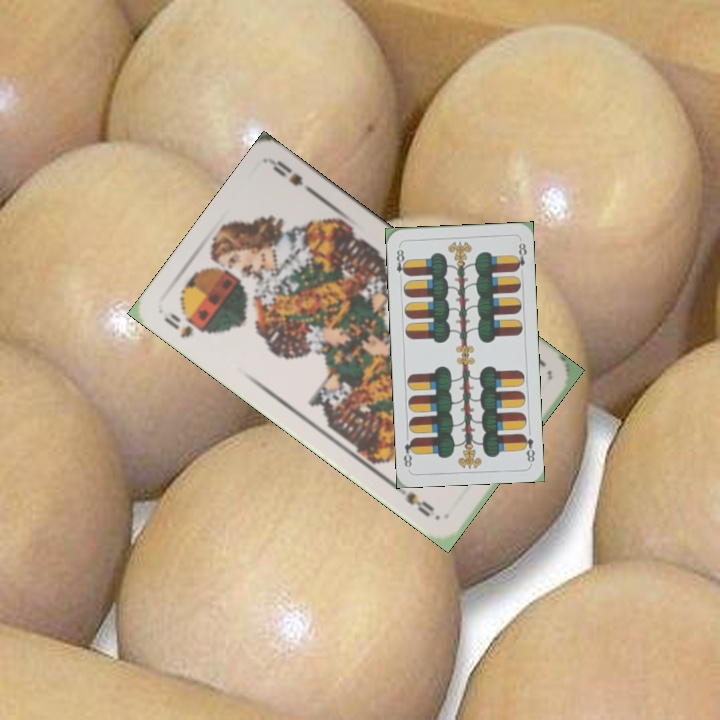E8: (392, 242, 410, 283), (518, 430, 537, 465)
SO: (159, 308, 196, 341)
